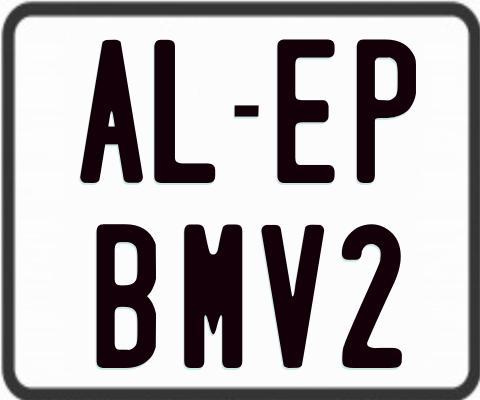2: (339, 224, 399, 373)
A: (79, 38, 147, 185)
B: (96, 224, 156, 373)
E: (276, 36, 337, 180)
L: (154, 40, 220, 187)
M: (183, 224, 242, 368)
P: (357, 38, 418, 184)
V: (258, 225, 322, 374)
